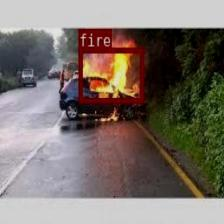fire: (78, 47, 144, 102)
